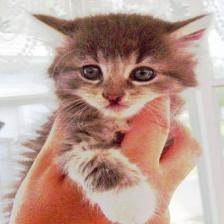cat: (28, 10, 216, 124)
